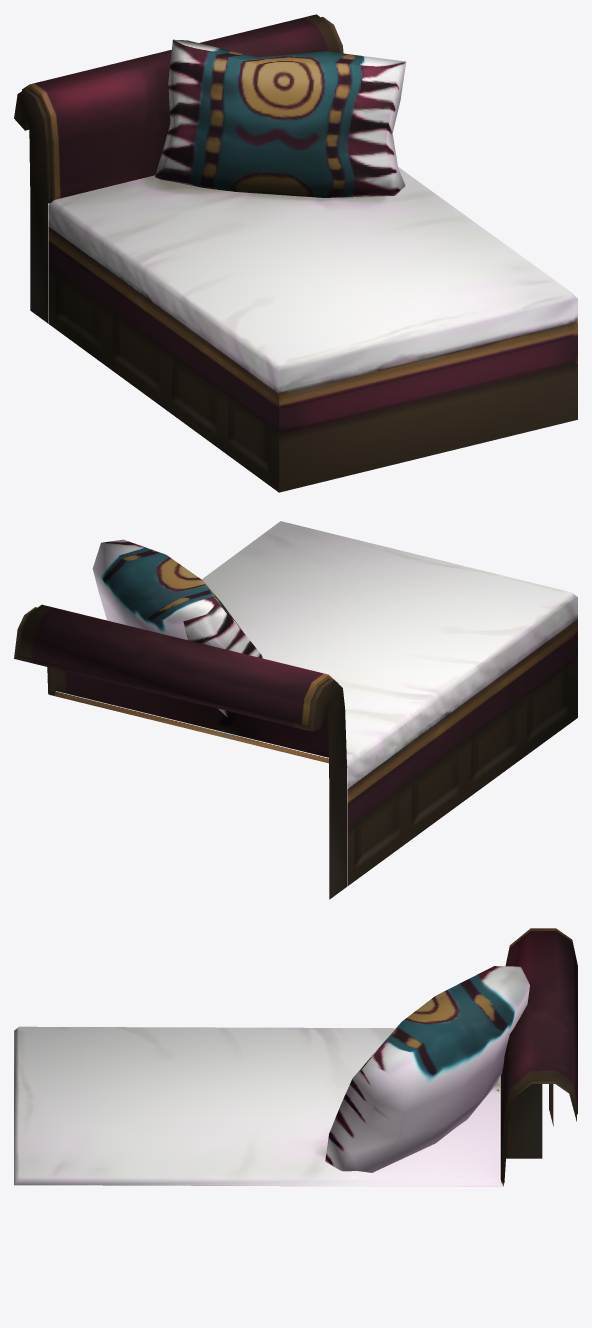
File: bed_maya.FBX
3 renders of one model, top to bottom at view 1: azimuth 30°, elevation 25°; view 2: azimuth 150°, elevation 25°; view 3: azimuth 270°, elevation 25°, orthographic. The views are drawn at different scales.
Visible parts, largest first — view 1: bed_maya001; view 2: bed_maya001; view 3: bed_maya001.
Part boxes in pixels (<box>): bed_maya001: <box>14,14,577,492</box>; bed_maya001: <box>14,521,577,899</box>; bed_maya001: <box>14,928,577,1186</box>.
Size of the model in its own units: 1.61 by 1.26 by 2.45.
